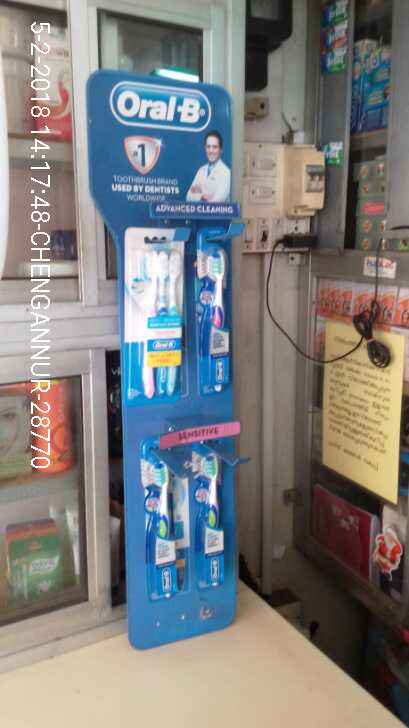oralb: (121, 224, 191, 399), (139, 446, 179, 599), (186, 432, 224, 588), (195, 226, 229, 396)
